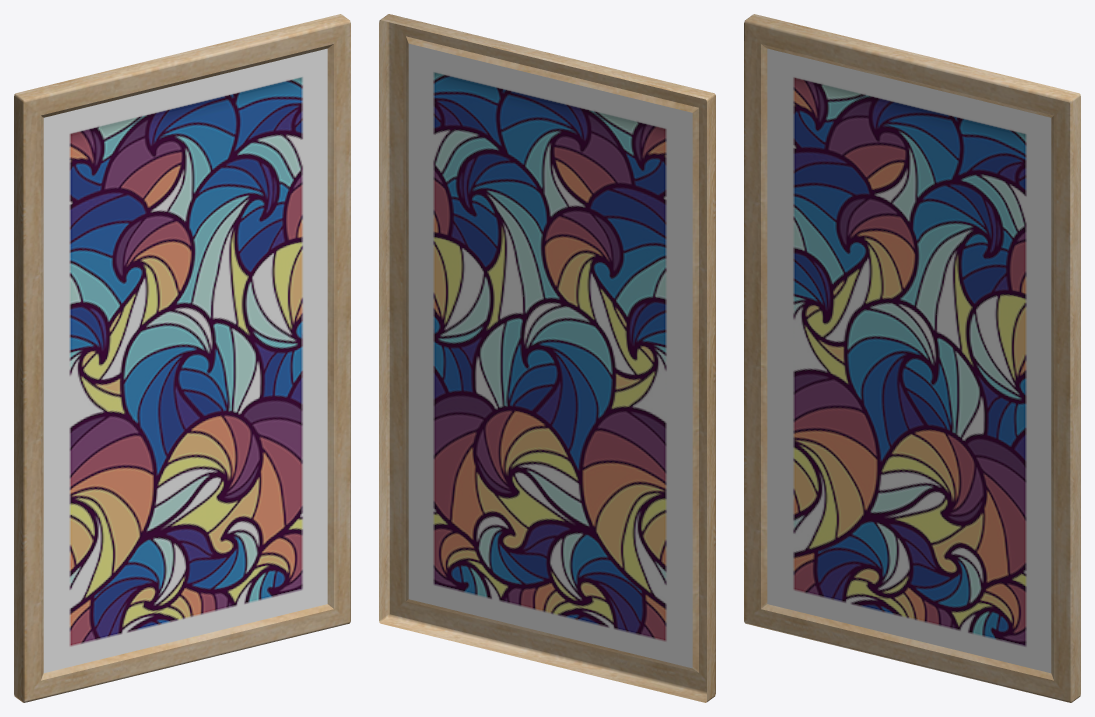
The model's file is paints1.FBX.
3 renders of one model, left to right at view 1: azimuth 30°, elevation 25°; view 2: azimuth 150°, elevation 25°; view 3: azimuth 330°, elevation 25°, orthographic.
Visible parts, largest first — view 1: paints1; view 2: paints1; view 3: paints1.
Part boxes in pixels (left/top/right/bottom): paints1: left=14, top=14, right=350, bottom=702; paints1: left=379, top=14, right=715, bottom=702; paints1: left=744, top=14, right=1080, bottom=702.
Bounding box in the file's own units: 20.56 × 1.03 × 36.17.
